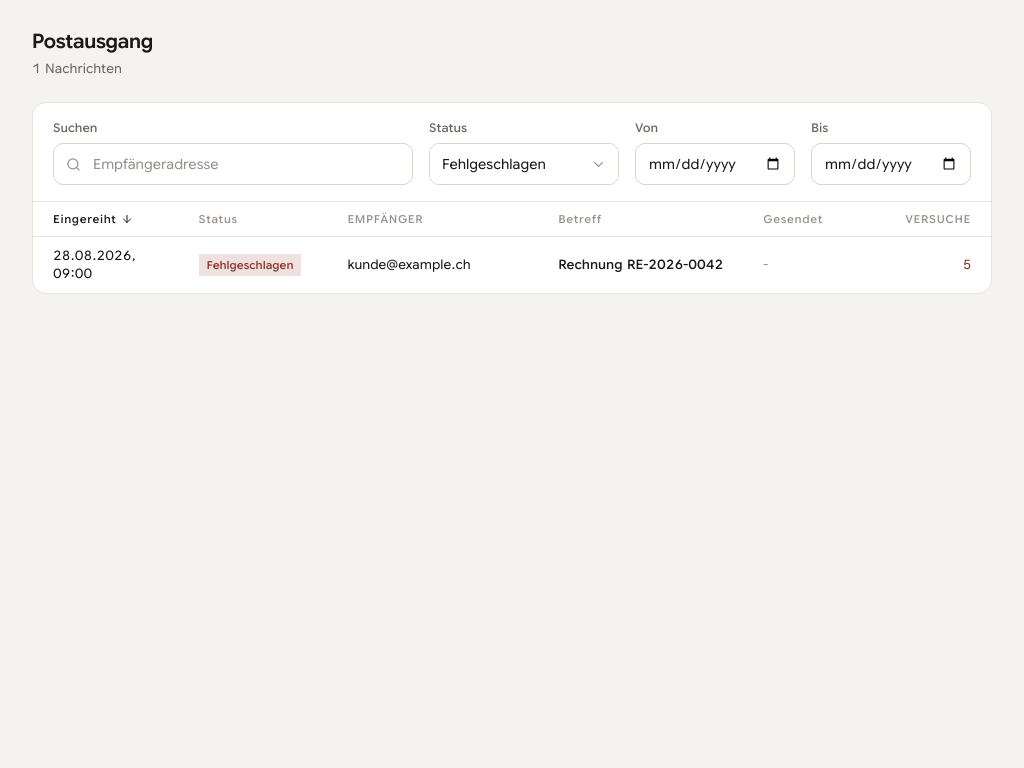
Test case: OutboxListPage › outboxListPageHidesResendingWithoutTheRightTest
Click the row that starts with "Fehlgeschlagen": point(94, 256) [33,236,991,293]
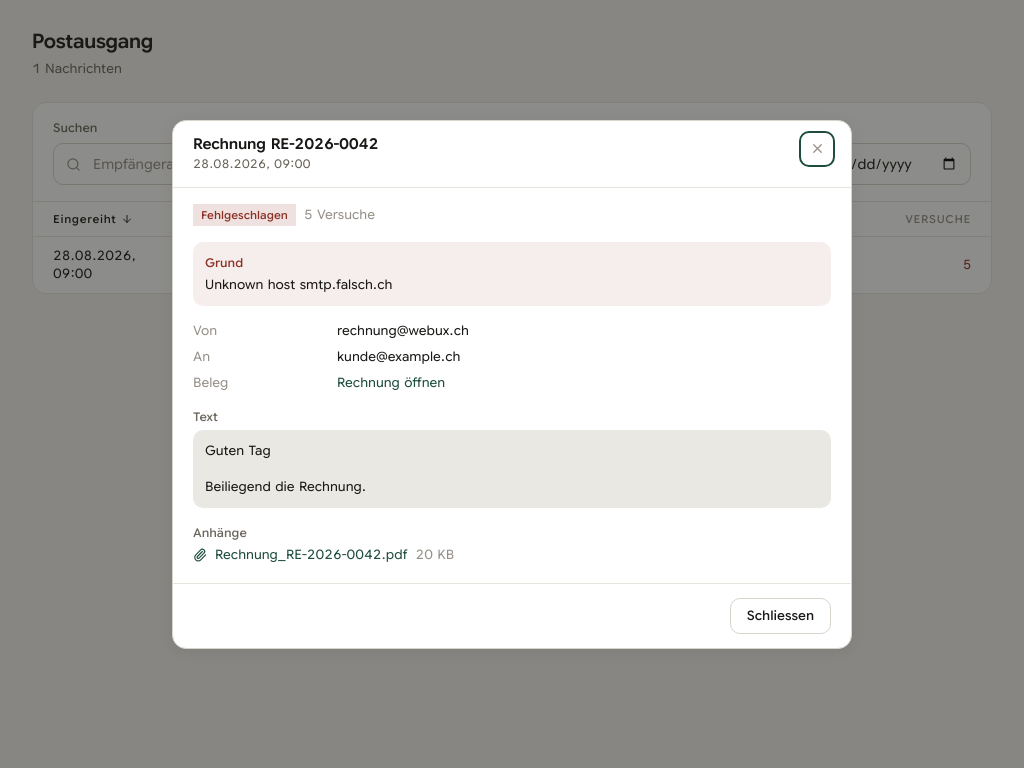
Check: the text "Unknown host smtp.falsch.ch" is shown, box [205,276,392,292]
